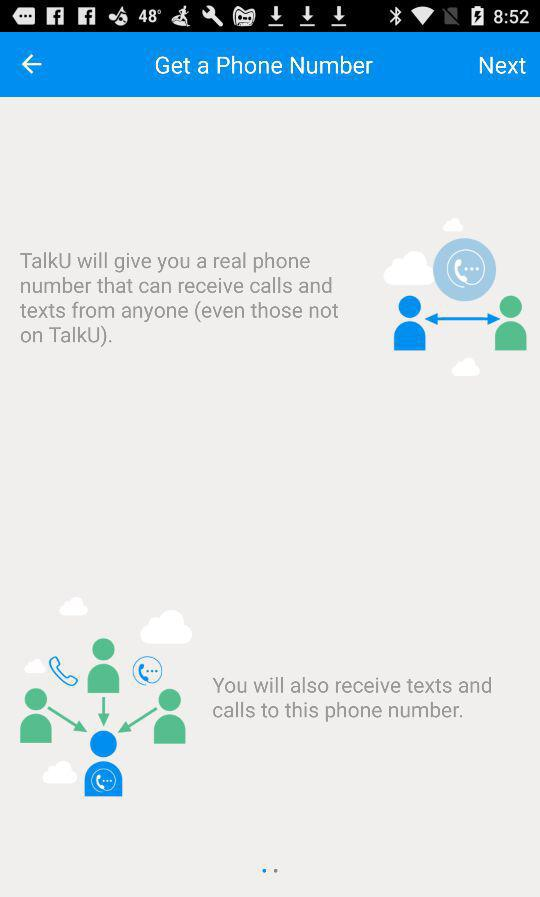Icon: (22, 55, 43, 75)
Image: (20, 596, 194, 797), (383, 216, 527, 378)
PageIndicator: (261, 867, 280, 874)
Text: (19, 251, 340, 348), (213, 676, 492, 723), (156, 56, 374, 77), (479, 57, 527, 76)
Toolbar: (1, 33, 540, 98)
UpperTaskBar: (1, 1, 540, 33)
